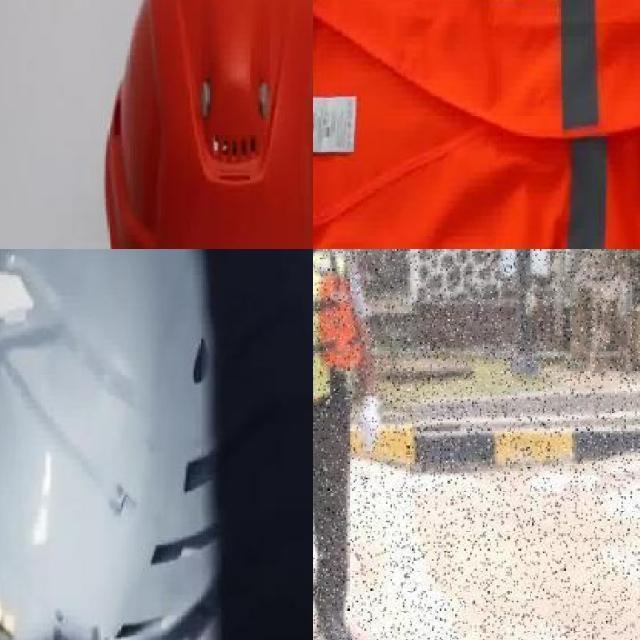apron: (356, 393, 379, 456)
